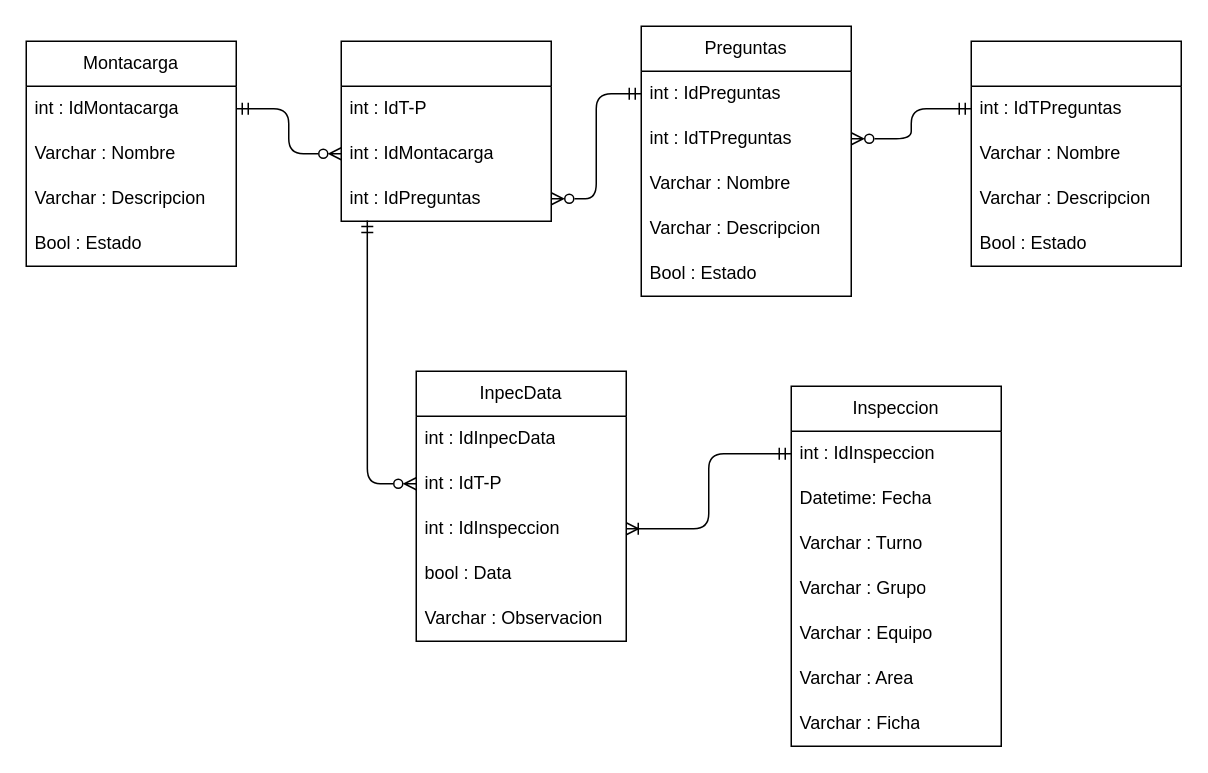
Image size: 1208x773. Some labels were removed from this diagram. Here are the shapes that lost their labels. From the top down, the box of each, then its label:
(340, 40, 551, 221): T-P
(970, 40, 1181, 266): Tipo Preguntas
